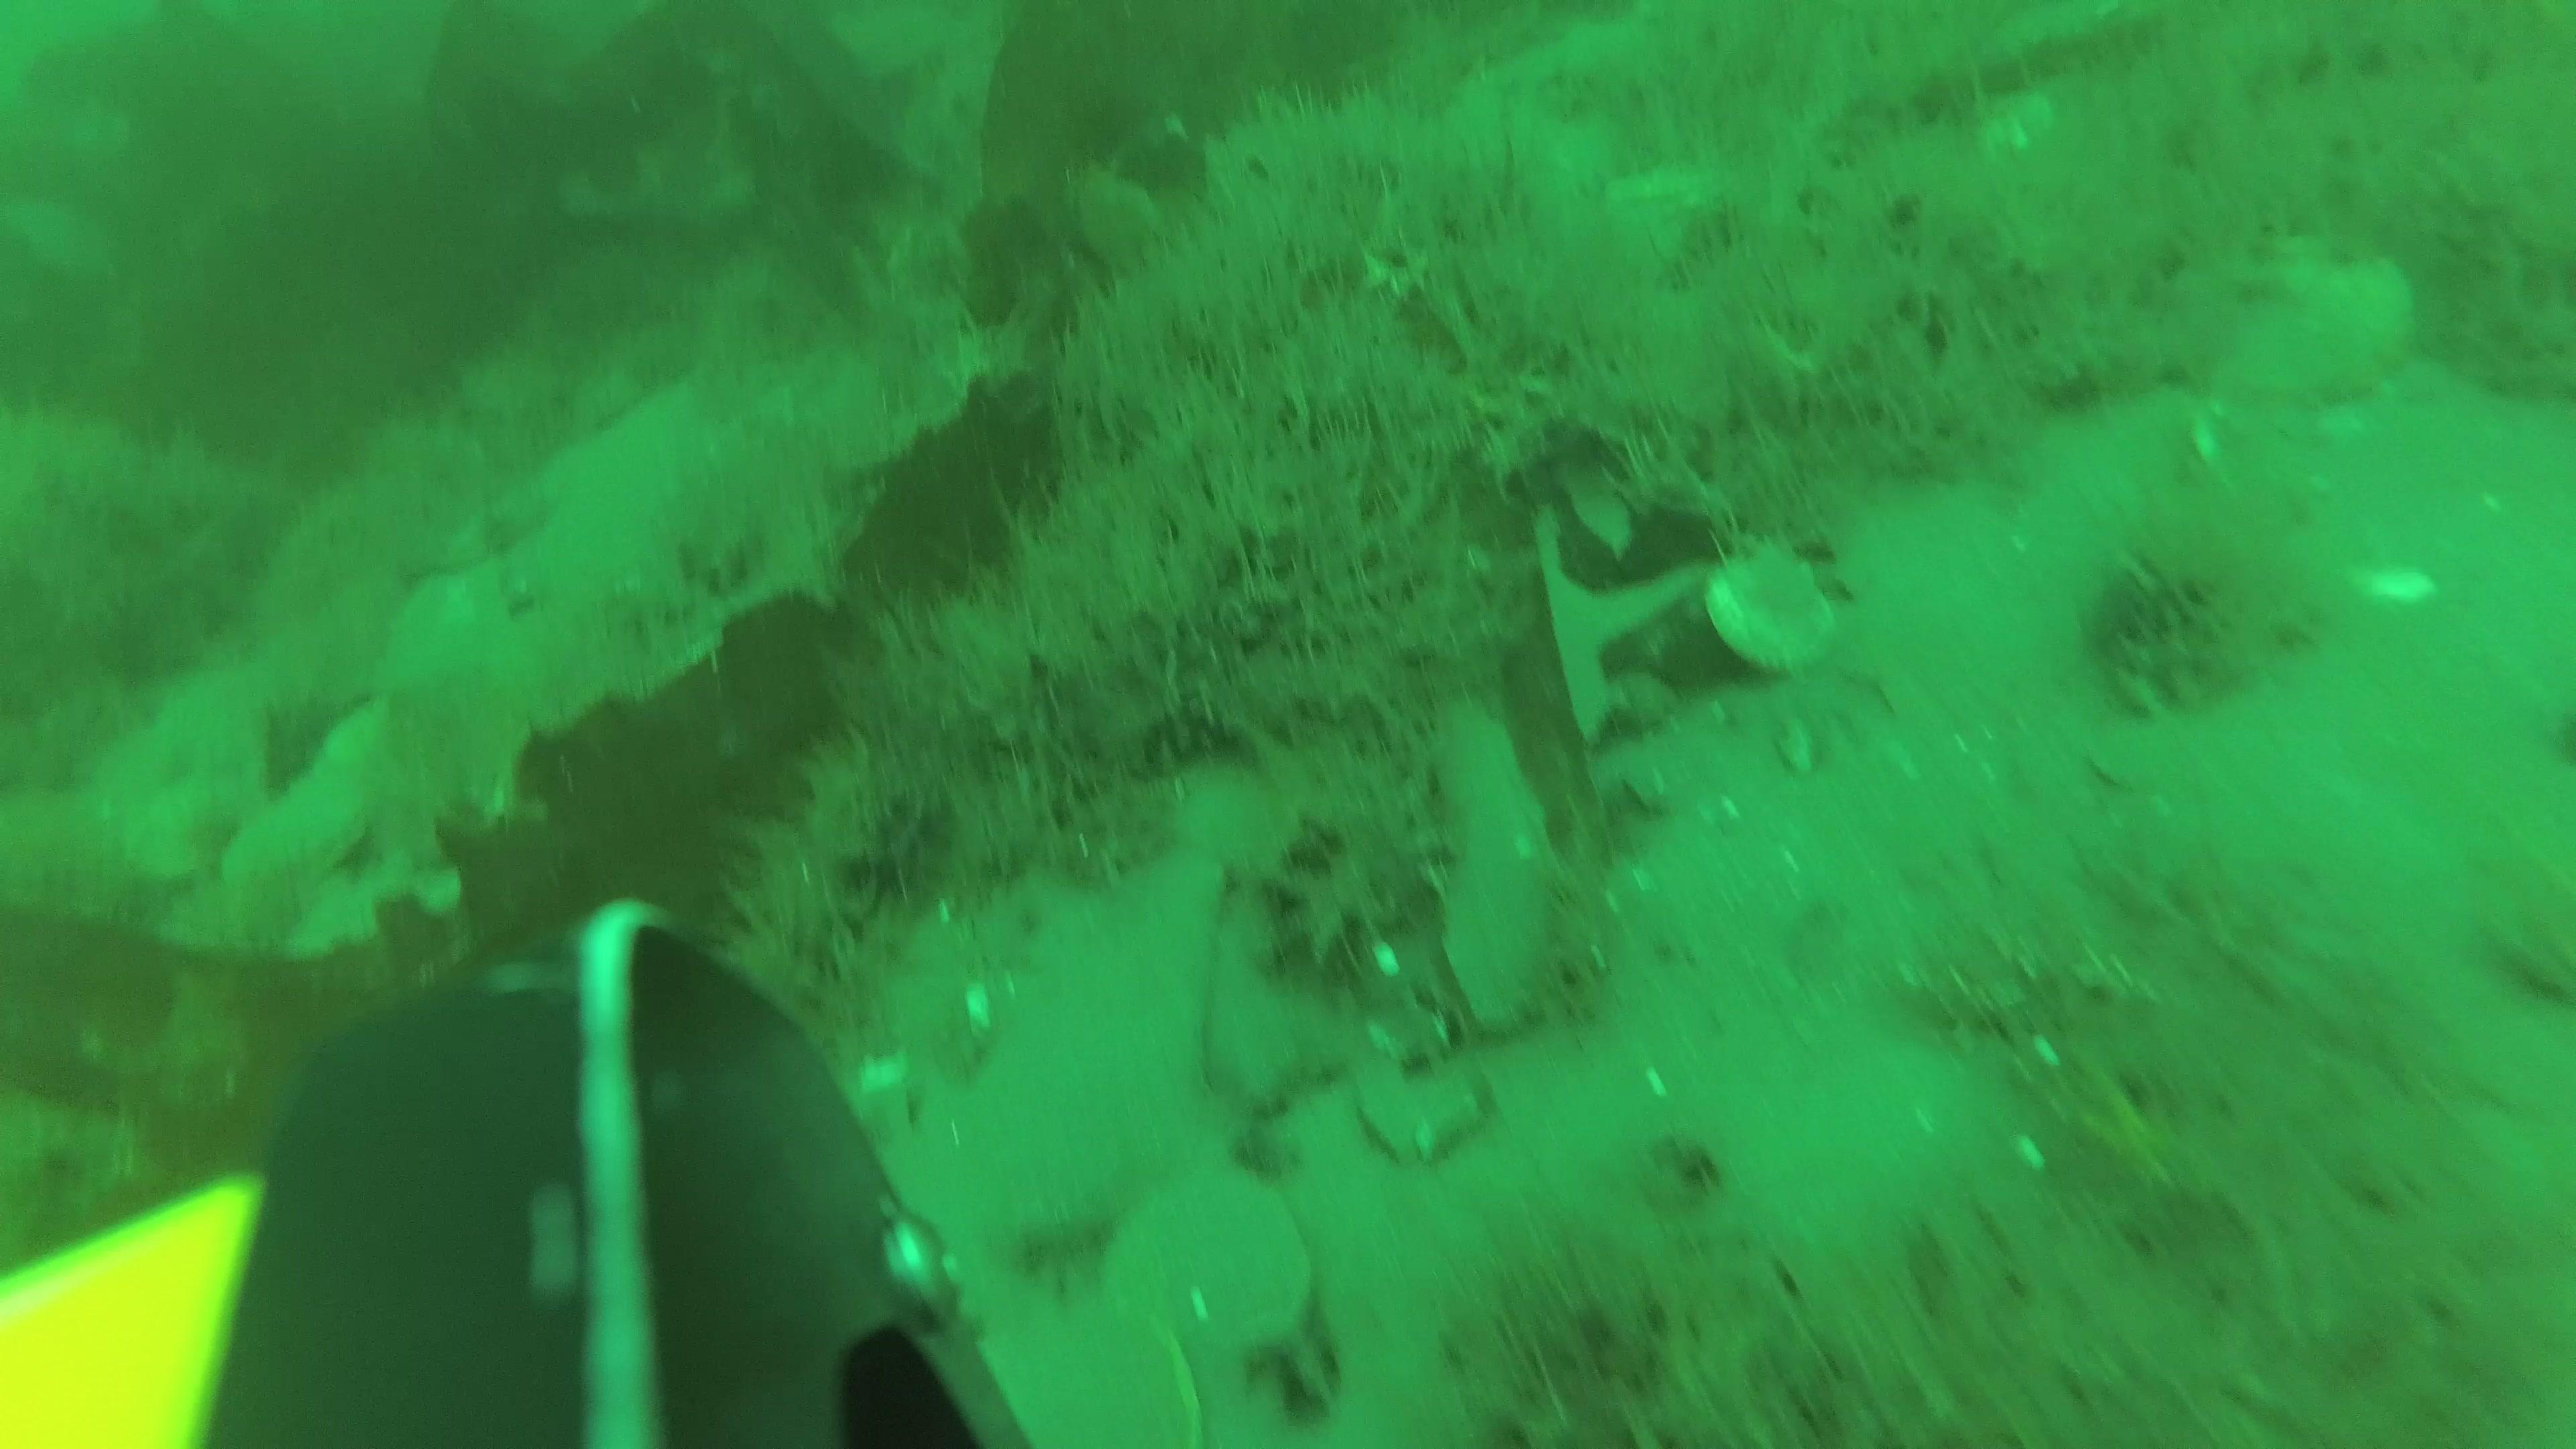scallop: (2162, 237, 2420, 410), (962, 1304, 1205, 1449), (1111, 1178, 1295, 1334), (218, 752, 380, 897), (1706, 541, 1835, 662)
